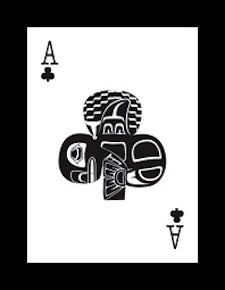AceOfClubs: (17, 24, 201, 266)
